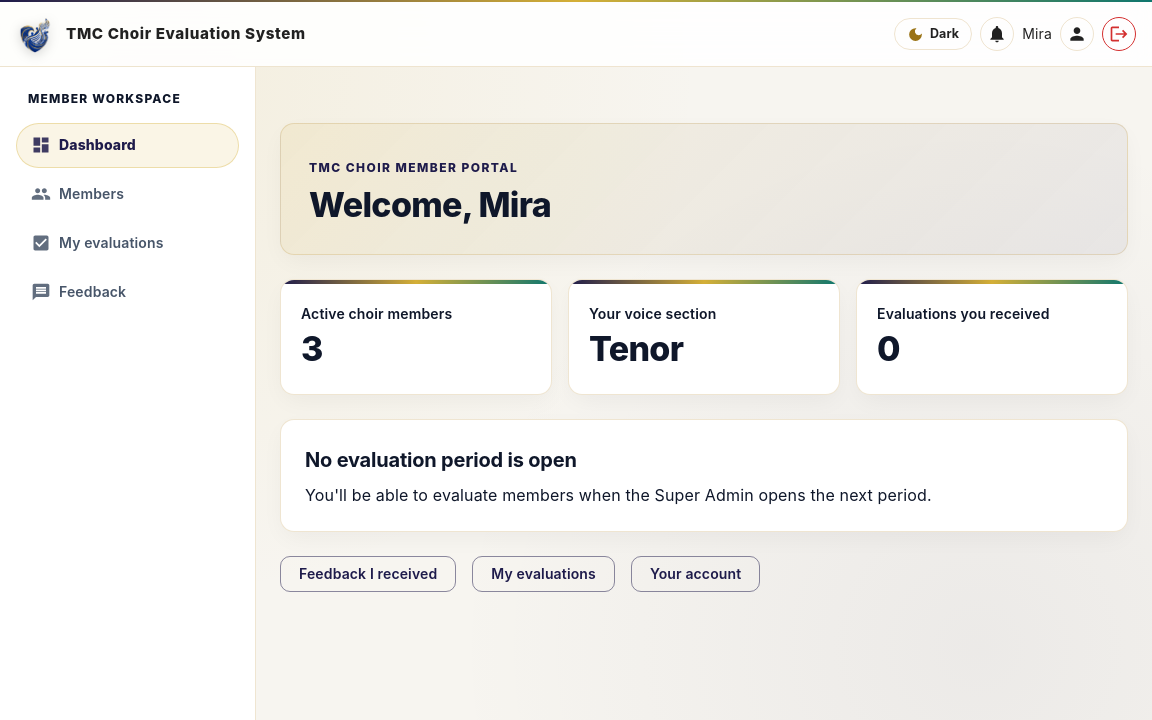
Test: logout › ends the session and returns to the welcome page
This screenshot has width=1152, height=720.
Click the button named "log out".
click(1119, 34)  # box [1102, 17, 1136, 51]
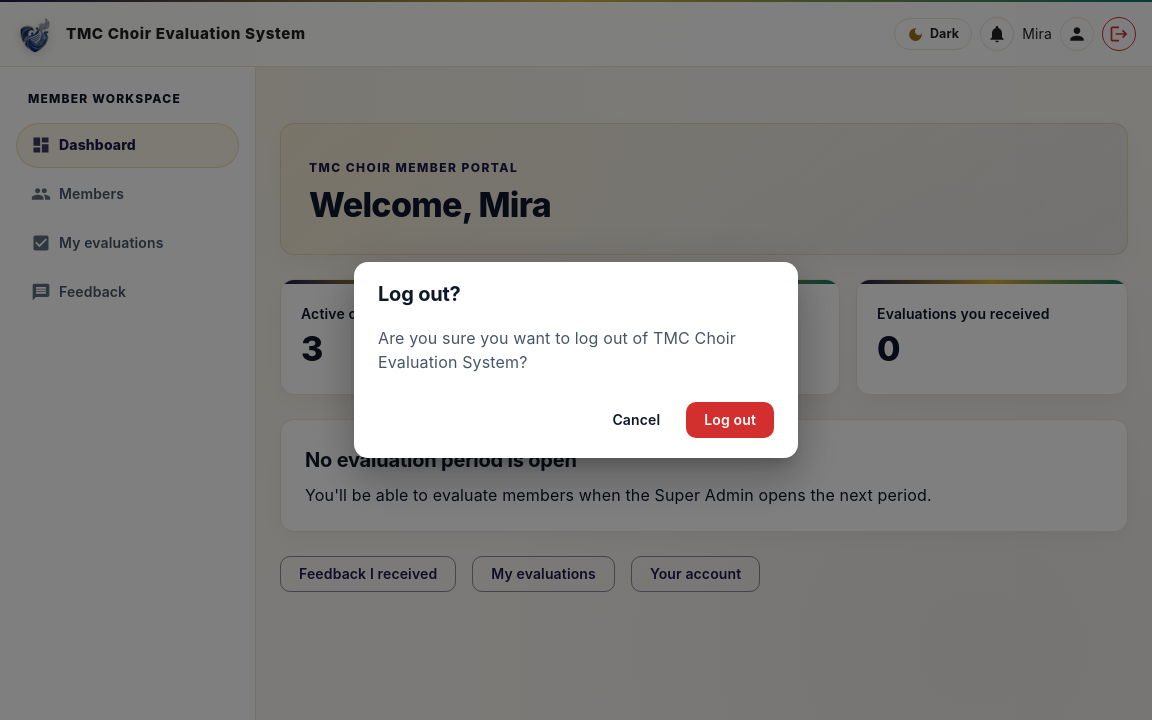
Result: the dialog is shown at [354, 262, 798, 458]
Click the button "Log out".
click(730, 420)  # box [686, 402, 774, 438]
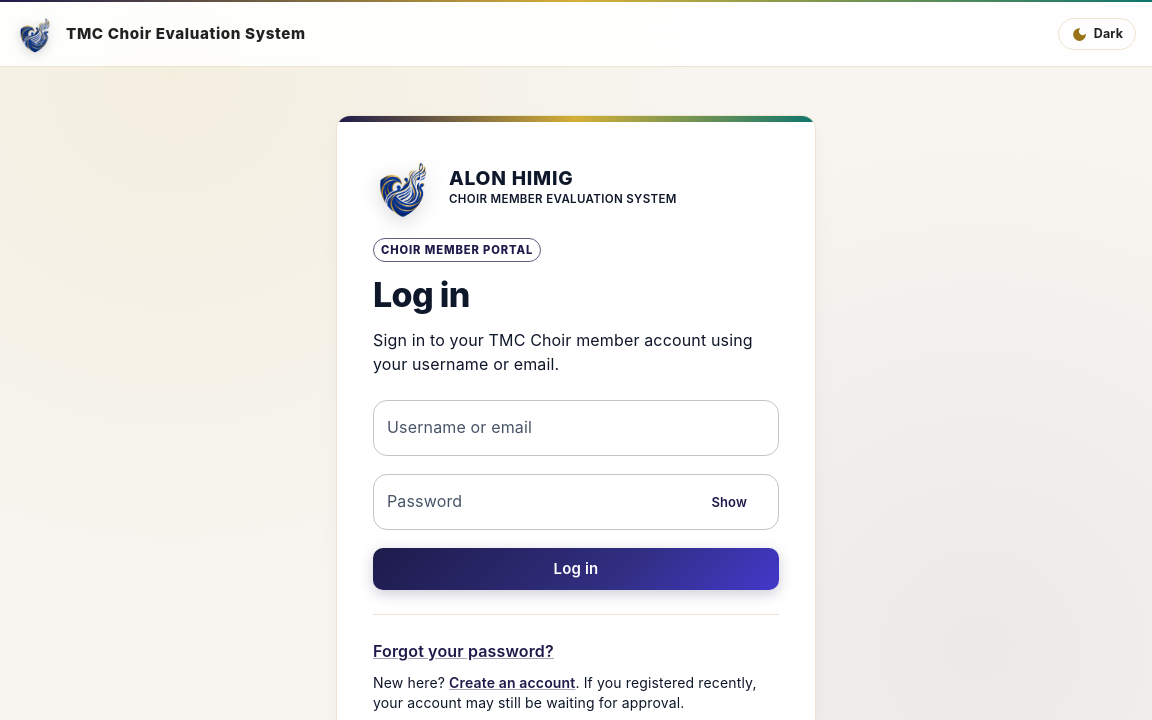
Result: the heading "Log out" is gone
